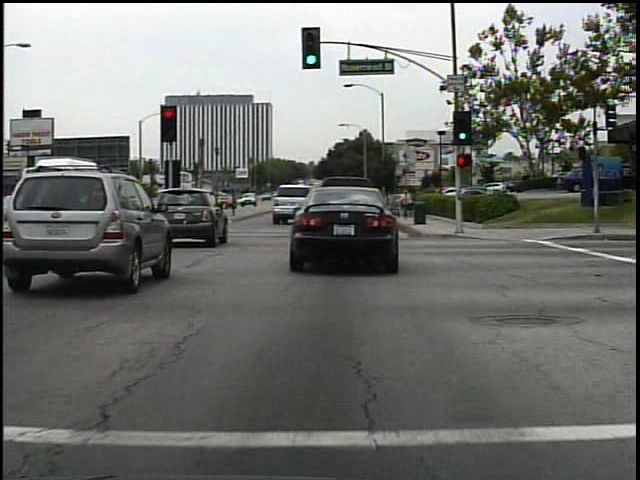person: (400, 187, 415, 222)
